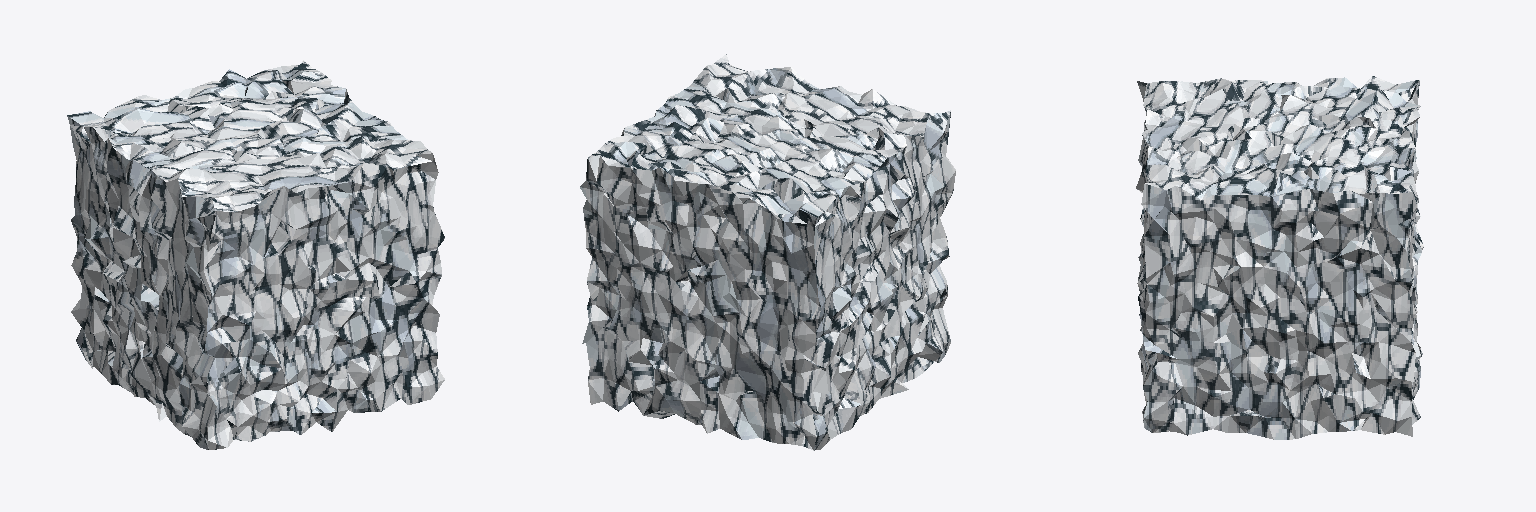
3 renders of one model, left to right at view 1: azimuth 30°, elevation 25°; view 2: azimuth 150°, elevation 25°; view 3: azimuth 270°, elevation 25°, orthographic.
Parts seen in each view (by area): view 1: Cube; view 2: Cube; view 3: Cube.
Part boxes in pixels (bbox=[...]): Cube: bbox=[67, 60, 444, 449]; Cube: bbox=[580, 54, 955, 450]; Cube: bbox=[1136, 76, 1423, 439].
Bounding box in the file's own units: 21.8 × 21.86 × 21.84.
1 materials, 1 textured.